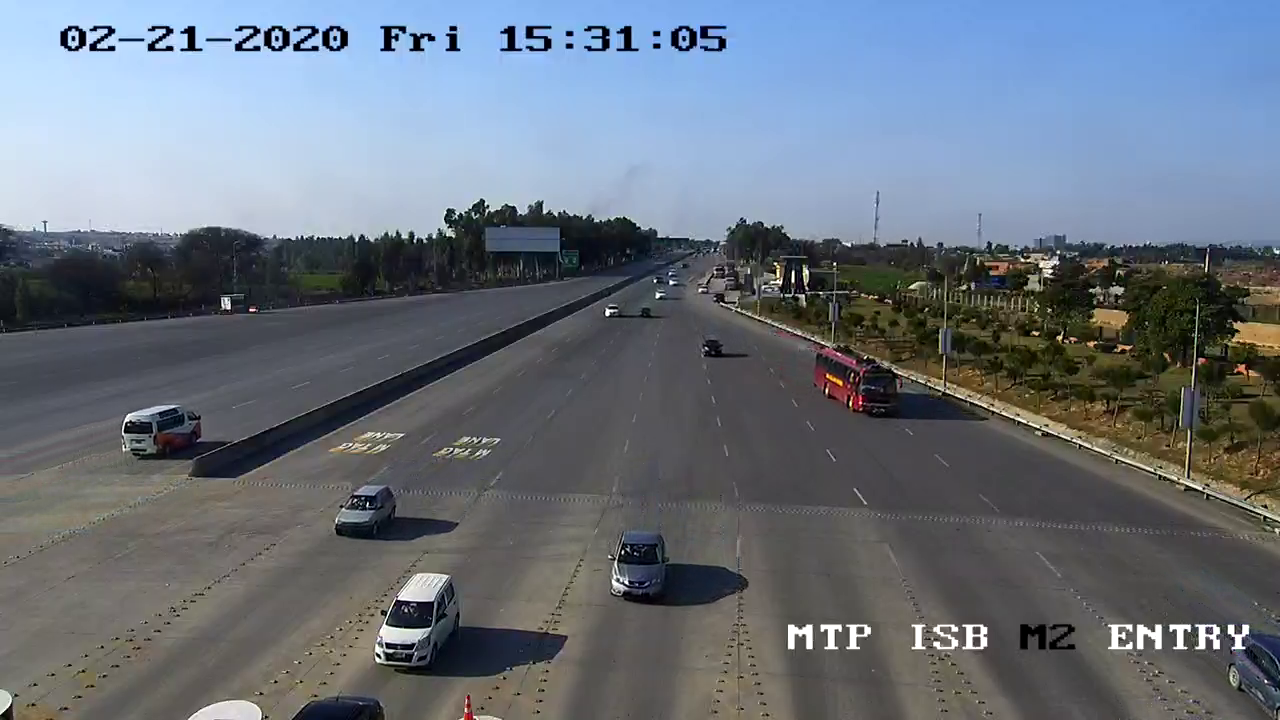f1: (360, 558, 466, 686), (602, 515, 682, 606), (325, 471, 406, 543)
f4: (813, 339, 908, 432)
